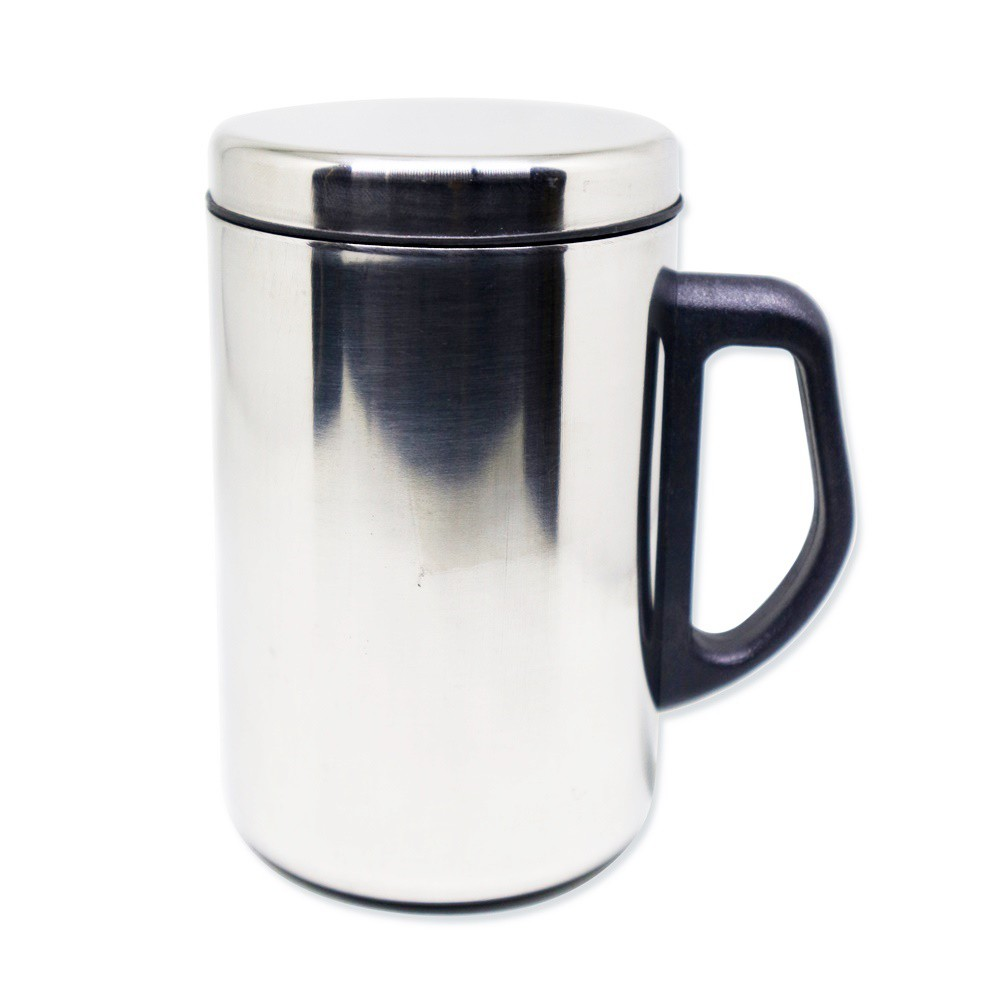gelas: (181, 81, 863, 948)
